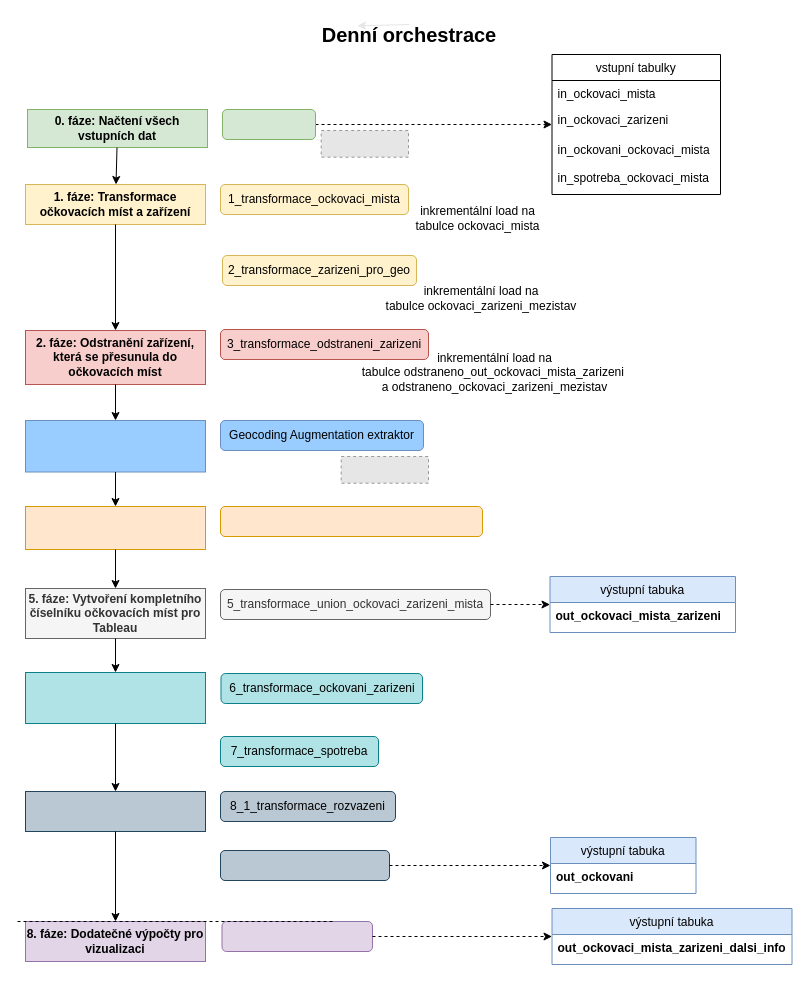
Some shapes in this 810 by 985 pixel diagram are drawn without their labels. Grey dashed boxes stand in for pictures. The box of each missing label's shape, as (x1, y1, x2, y2) in pixels:
3. fáze: Zjištění latitude a longitude pro očkovací zařízení: (24, 420, 206, 472)
4. fáze: Obohacení očkovacích zařízení o latitude a logitude: (24, 506, 206, 550)
4_transformace_ockovaci_zarizeni_obohaceni: (220, 506, 482, 536)
6. fáze: Transformace vstupních tabulek se spotřebou a očkováním: (24, 672, 206, 724)
7. fáze: Rozvážení očkování na očkovací místa: (24, 790, 206, 832)
8_2_transformace_rozvazeni: (220, 850, 390, 880)
9_transformace_vypocty: (221, 920, 372, 952)
HTTP extraktor: (222, 108, 316, 140)
